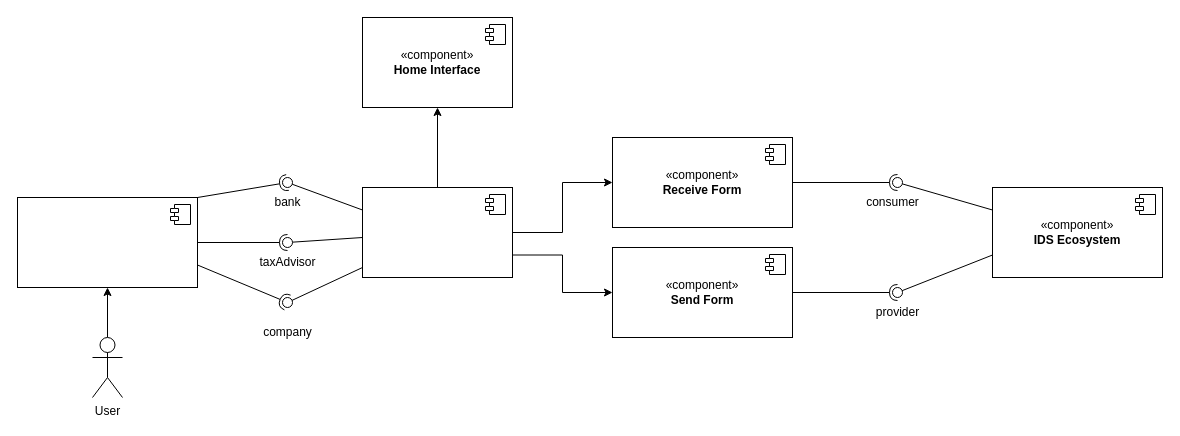
Image size: 1180x436. Some labels were removed from this diagram. The shapes that lost their labels are listed below. From the top down, each one's box as (x1, y1, x2, y2) in pixels, then its label:
(16, 196, 198, 288): «component» Login Interface
(362, 186, 512, 278): «component» Connector
